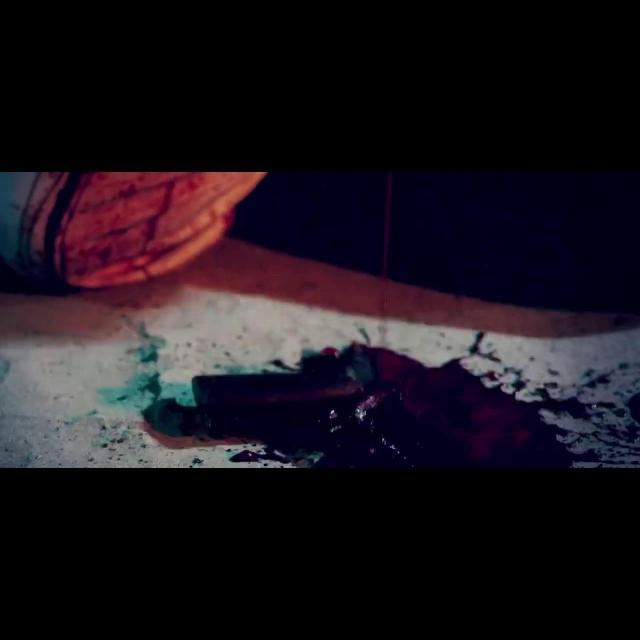blood: (190, 322, 640, 469)
